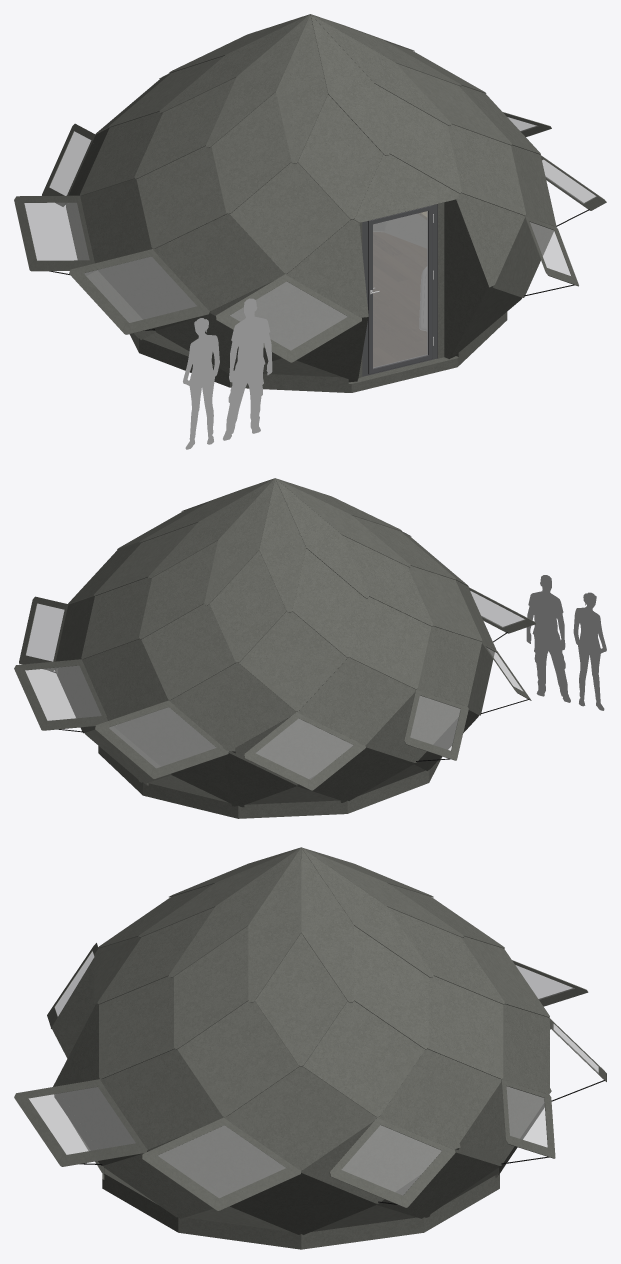
Rendered from zomes-170-draco.glb.
3 views of the same model, one above another, from view 1: azimuth 30°, elevation 25°; view 2: azimuth 150°, elevation 25°; view 3: azimuth 270°, elevation 25° (orthographic). The views are drawn at different scales.
Visible parts, largest first — view 1: maindoor, entry-center-C-5, window-glass-c-2.001, panel-wall-d-1, man, window-glass-c-1.001, panel-wall-e-1, panel-wall-f-1, panel-wall-f-2, panel-wall-e-2, window-glass-c-3.001, panel-wall-f-10 (+31 smaller); view 2: entry-center-C-5, entry-center-C-4, maindoor, window-glass-c-5.001, man, window-glass-c-4.001, window-glass-c-6.001, panel-wall-f-5, panel-wall-f-4, panel-wall-e-3, panel-wall-e-4, panel-wall-f-6 (+42 smaller); view 3: maindoor, window-glass-c-8.001, panel-wall-d-7, window-glass-c-9.001, panel-wall-e-7, panel-wall-d-8, panel-wall-d-6, panel-wall-e-8, panel-wall-f-8, window-glass-c-7.001, panel-wall-f-9, panel-wall-f-7 (+39 smaller).
Part boxes in pixels (<box>): maindoor: <box>86,154,524,383</box>; entry-center-C-5: <box>373,211,427,367</box>; window-glass-c-2.001: <box>69,249,209,334</box>; panel-wall-d-1: <box>153,214,285,310</box>; man: <box>183,298,272,449</box>; window-glass-c-1.001: <box>216,274,361,362</box>; panel-wall-e-1: <box>234,162,341,273</box>; panel-wall-f-1: <box>299,94,383,219</box>; panel-wall-f-2: <box>212,93,291,213</box>; panel-wall-e-2: <box>136,146,224,248</box>; window-glass-c-3.001: <box>14,195,94,274</box>; panel-wall-f-10: <box>374,83,461,193</box>; entry-center-C-5: <box>96,604,296,806</box>; entry-center-C-4: <box>193,627,415,807</box>; maindoor: <box>85,710,478,810</box>; window-glass-c-5.001: <box>95,700,228,778</box>; man: <box>526,575,606,710</box>; window-glass-c-4.001: <box>244,712,365,790</box>; window-glass-c-6.001: <box>14,659,107,732</box>; panel-wall-f-5: <box>209,550,285,662</box>; panel-wall-f-4: <box>292,548,363,657</box>; panel-wall-e-3: <box>350,596,431,689</box>; panel-wall-e-4: <box>247,611,333,711</box>; panel-wall-f-6: <box>139,540,217,639</box>; maindoor: <box>51,936,514,1239</box>; window-glass-c-8.001: <box>142,1117,301,1210</box>; panel-wall-d-7: <box>226,1066,375,1169</box>; window-glass-c-9.001: <box>14,1079,147,1166</box>; panel-wall-e-7: <box>302,1001,419,1116</box>; panel-wall-d-8: <box>100,1049,223,1149</box>; panel-wall-d-6: <box>378,1049,501,1149</box>; panel-wall-e-8: <box>179,1001,299,1116</box>; panel-wall-f-8: <box>255,933,347,1066</box>; window-glass-c-7.001: <box>329,1117,455,1207</box>; panel-wall-f-9: <box>174,926,248,1048</box>; panel-wall-f-7: <box>354,926,428,1049</box>.
Size of the model in its own units: 6.87 by 3.82 by 6.54.
Materials: 19 (8 with a texture image).
